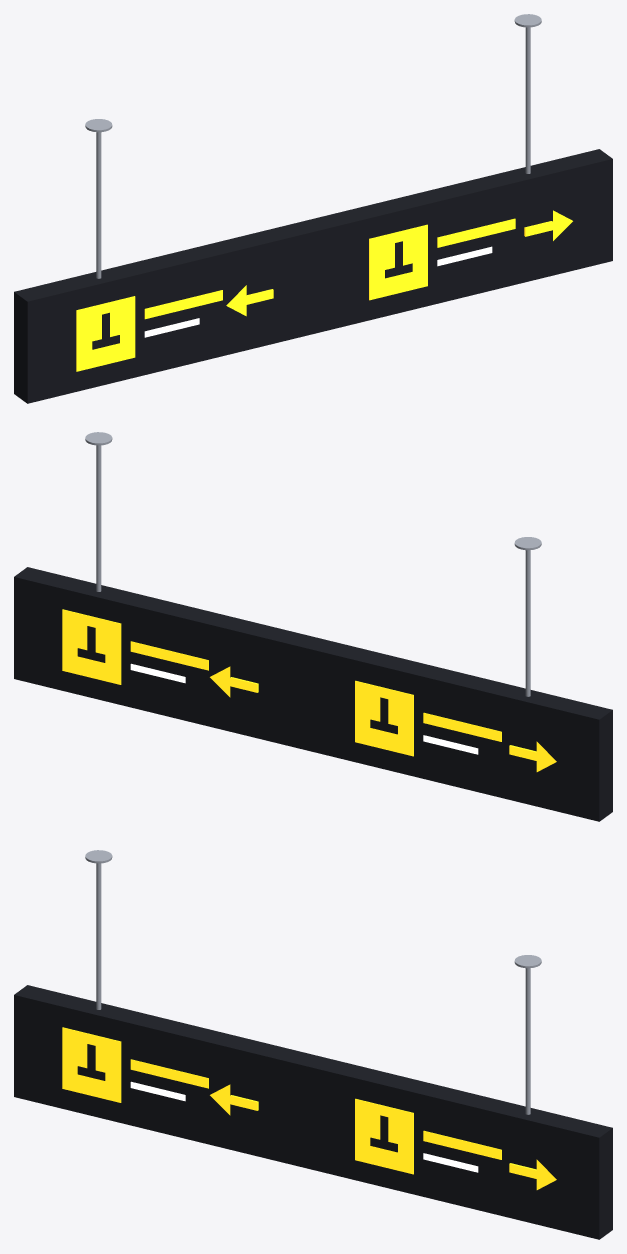
The model's file is air-026.glb.
The picture shows the model from 3 angles, top to bottom: view 1: azimuth 30°, elevation 25°; view 2: azimuth 150°, elevation 25°; view 3: azimuth 330°, elevation 25°; orthographic projection.
Visible parts, largest first — view 1: panel, pictogram_tile_1, pictogram_tile_2, label_2, label_1, hanger_rod_1, hanger_rod_2; view 2: panel, pictogram_tile_1, pictogram_tile_2, label_1, label_2, hanger_rod_1, hanger_rod_2; view 3: panel, pictogram_tile_1, pictogram_tile_2, label_1, label_2, hanger_rod_1, hanger_rod_2.
Part boxes in pixels (box(x1,y1,x2,y2)): panel: box(14, 149, 612, 403); pictogram_tile_1: box(76, 296, 135, 371); pictogram_tile_2: box(369, 224, 427, 300); label_2: box(437, 218, 515, 247); label_1: box(144, 290, 222, 319); hanger_rod_1: box(96, 132, 101, 278); hanger_rod_2: box(525, 27, 530, 173); panel: box(14, 567, 612, 821); pictogram_tile_1: box(62, 609, 121, 684); pictogram_tile_2: box(355, 680, 413, 756); label_1: box(130, 641, 208, 670); label_2: box(423, 712, 501, 741); hanger_rod_1: box(525, 550, 530, 696); hanger_rod_2: box(96, 445, 101, 591); panel: box(14, 985, 612, 1239); pictogram_tile_1: box(62, 1027, 121, 1102); pictogram_tile_2: box(355, 1098, 413, 1174); label_1: box(130, 1059, 208, 1088); label_2: box(423, 1130, 501, 1159); hanger_rod_1: box(96, 863, 101, 1009); hanger_rod_2: box(525, 968, 530, 1114).
Bounding box in the file's own units: 3 × 1.25 × 0.1452.
